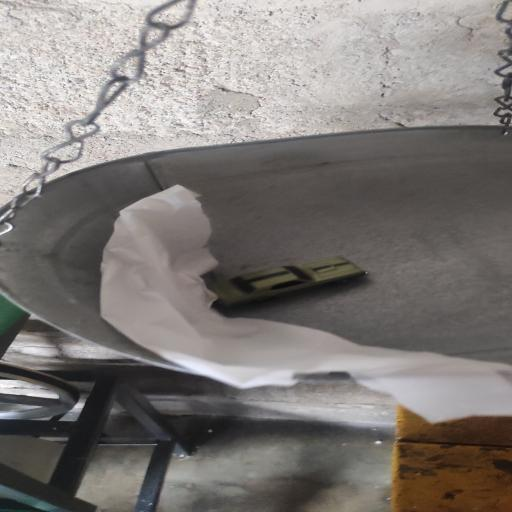Carrito: (209, 256, 367, 306)
